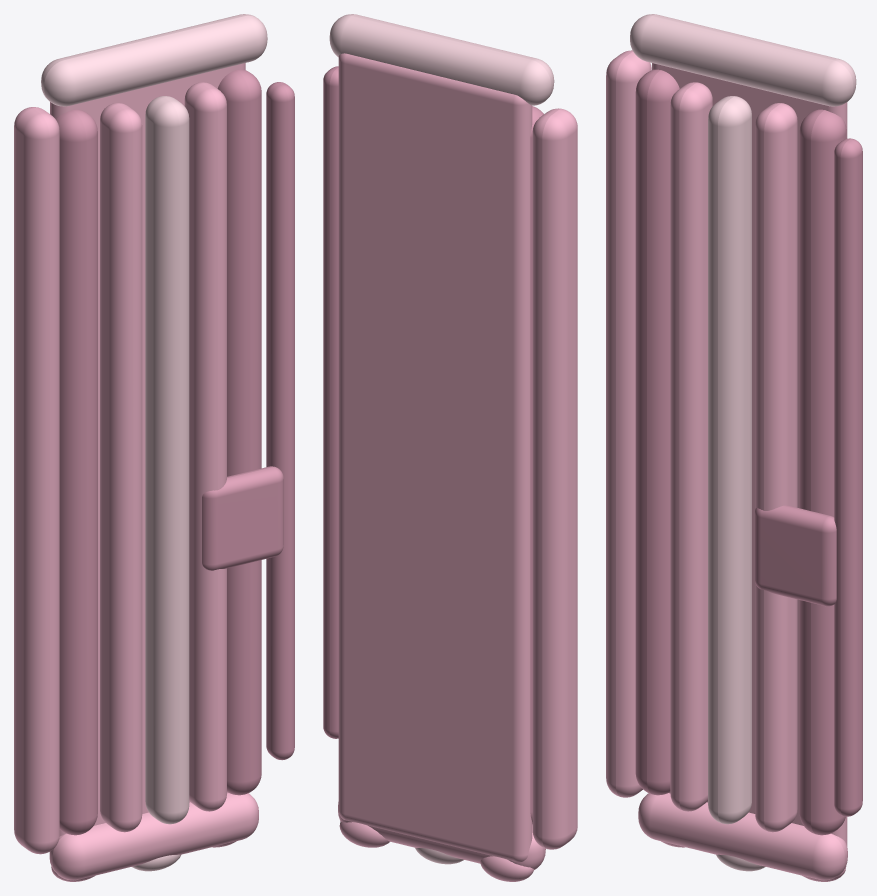
File: 目标图厚粉窗帘单片.fbx
3 renders of one model, left to right at view 1: azimuth 30°, elevation 25°; view 2: azimuth 150°, elevation 25°; view 3: azimuth 330°, elevation 25°, orthographic.
Visible parts, largest first — view 1: 目标图厚粉窗帘_v344_外侧圆厚包边, 目标图厚粉窗帘_v344_波浪厚布褶.002, 目标图厚粉窗帘_v344_波浪厚布褶.001, 目标图厚粉窗帘_v344_波浪厚布褶, 目标图厚粉窗帘_v344_波浪厚布褶.003, 目标图厚粉窗帘_v344_波浪厚布褶.004, 目标图厚粉窗帘_v344_内侧收束暗褶, 目标图厚粉窗帘_v344_顶部软包布头, 目标图厚粉窗帘_v344_底部厚软下摆, 目标图厚粉窗帘_v344_束腰收紧暗面, 目标图厚粉窗帘_v344_厚布背面整片; view 2: 目标图厚粉窗帘_v344_厚布背面整片, 目标图厚粉窗帘_v344_外侧圆厚包边, 目标图厚粉窗帘_v344_内侧收束暗褶, 目标图厚粉窗帘_v344_顶部软包布头, 目标图厚粉窗帘_v344_波浪厚布褶, 目标图厚粉窗帘_v344_底部厚软下摆, 目标图厚粉窗帘_v344_底摆左软坠, 目标图厚粉窗帘_v344_底摆右软坠; view 3: 目标图厚粉窗帘_v344_波浪厚布褶.002, 目标图厚粉窗帘_v344_波浪厚布褶.001, 目标图厚粉窗帘_v344_波浪厚布褶.003, 目标图厚粉窗帘_v344_波浪厚布褶, 目标图厚粉窗帘_v344_波浪厚布褶.004, 目标图厚粉窗帘_v344_外侧圆厚包边, 目标图厚粉窗帘_v344_内侧收束暗褶, 目标图厚粉窗帘_v344_顶部软包布头, 目标图厚粉窗帘_v344_底部厚软下摆, 目标图厚粉窗帘_v344_厚布背面整片, 目标图厚粉窗帘_v344_束腰收紧暗面.
Part boxes in pixels (x1,y1,x2,y2): 目标图厚粉窗帘_v344_外侧圆厚包边: (14, 107, 59, 854); 目标图厚粉窗帘_v344_波浪厚布褶.002: (145, 96, 189, 824); 目标图厚粉窗帘_v344_波浪厚布褶.001: (100, 103, 142, 832); 目标图厚粉窗帘_v344_波浪厚布褶: (55, 109, 97, 835); 目标图厚粉窗帘_v344_波浪厚布褶.003: (184, 82, 226, 811); 目标图厚粉窗帘_v344_波浪厚布褶.004: (217, 69, 261, 795); 目标图厚粉窗帘_v344_内侧收束暗褶: (266, 82, 294, 760); 目标图厚粉窗帘_v344_顶部软包布头: (41, 14, 267, 106); 目标图厚粉窗帘_v344_底部厚软下摆: (49, 793, 258, 880); 目标图厚粉窗帘_v344_束腰收紧暗面: (202, 466, 283, 570); 目标图厚粉窗帘_v344_厚布背面整片: (50, 63, 245, 836); 目标图厚粉窗帘_v344_厚布背面整片: (338, 53, 532, 862); 目标图厚粉窗帘_v344_外侧圆厚包边: (532, 108, 577, 849); 目标图厚粉窗帘_v344_内侧收束暗褶: (323, 66, 338, 738); 目标图厚粉窗帘_v344_顶部软包布头: (329, 14, 554, 105); 目标图厚粉窗帘_v344_波浪厚布褶: (530, 106, 543, 823); 目标图厚粉窗帘_v344_底部厚软下摆: (338, 802, 545, 869); 目标图厚粉窗帘_v344_底摆左软坠: (480, 856, 533, 881); 目标图厚粉窗帘_v344_底摆右软坠: (339, 821, 389, 847); 目标图厚粉窗帘_v344_波浪厚布褶.002: (708, 96, 751, 824); 目标图厚粉窗帘_v344_波浪厚布褶.001: (670, 82, 712, 811); 目标图厚粉窗帘_v344_波浪厚布褶.003: (755, 103, 797, 832); 目标图厚粉窗帘_v344_波浪厚布褶: (635, 69, 679, 795); 目标图厚粉窗帘_v344_波浪厚布褶.004: (799, 109, 846, 835); 目标图厚粉窗帘_v344_外侧圆厚包边: (606, 50, 651, 797); 目标图厚粉窗帘_v344_内侧收束暗褶: (834, 138, 862, 816); 目标图厚粉窗帘_v344_顶部软包布头: (630, 14, 856, 106); 目标图厚粉窗帘_v344_底部厚软下摆: (638, 793, 847, 880); 目标图厚粉窗帘_v344_厚布背面整片: (652, 63, 847, 846); 目标图厚粉窗帘_v344_束腰收紧暗面: (755, 505, 836, 606).
Bounding box in the file's own units: 46 × 140 × 12.25.
